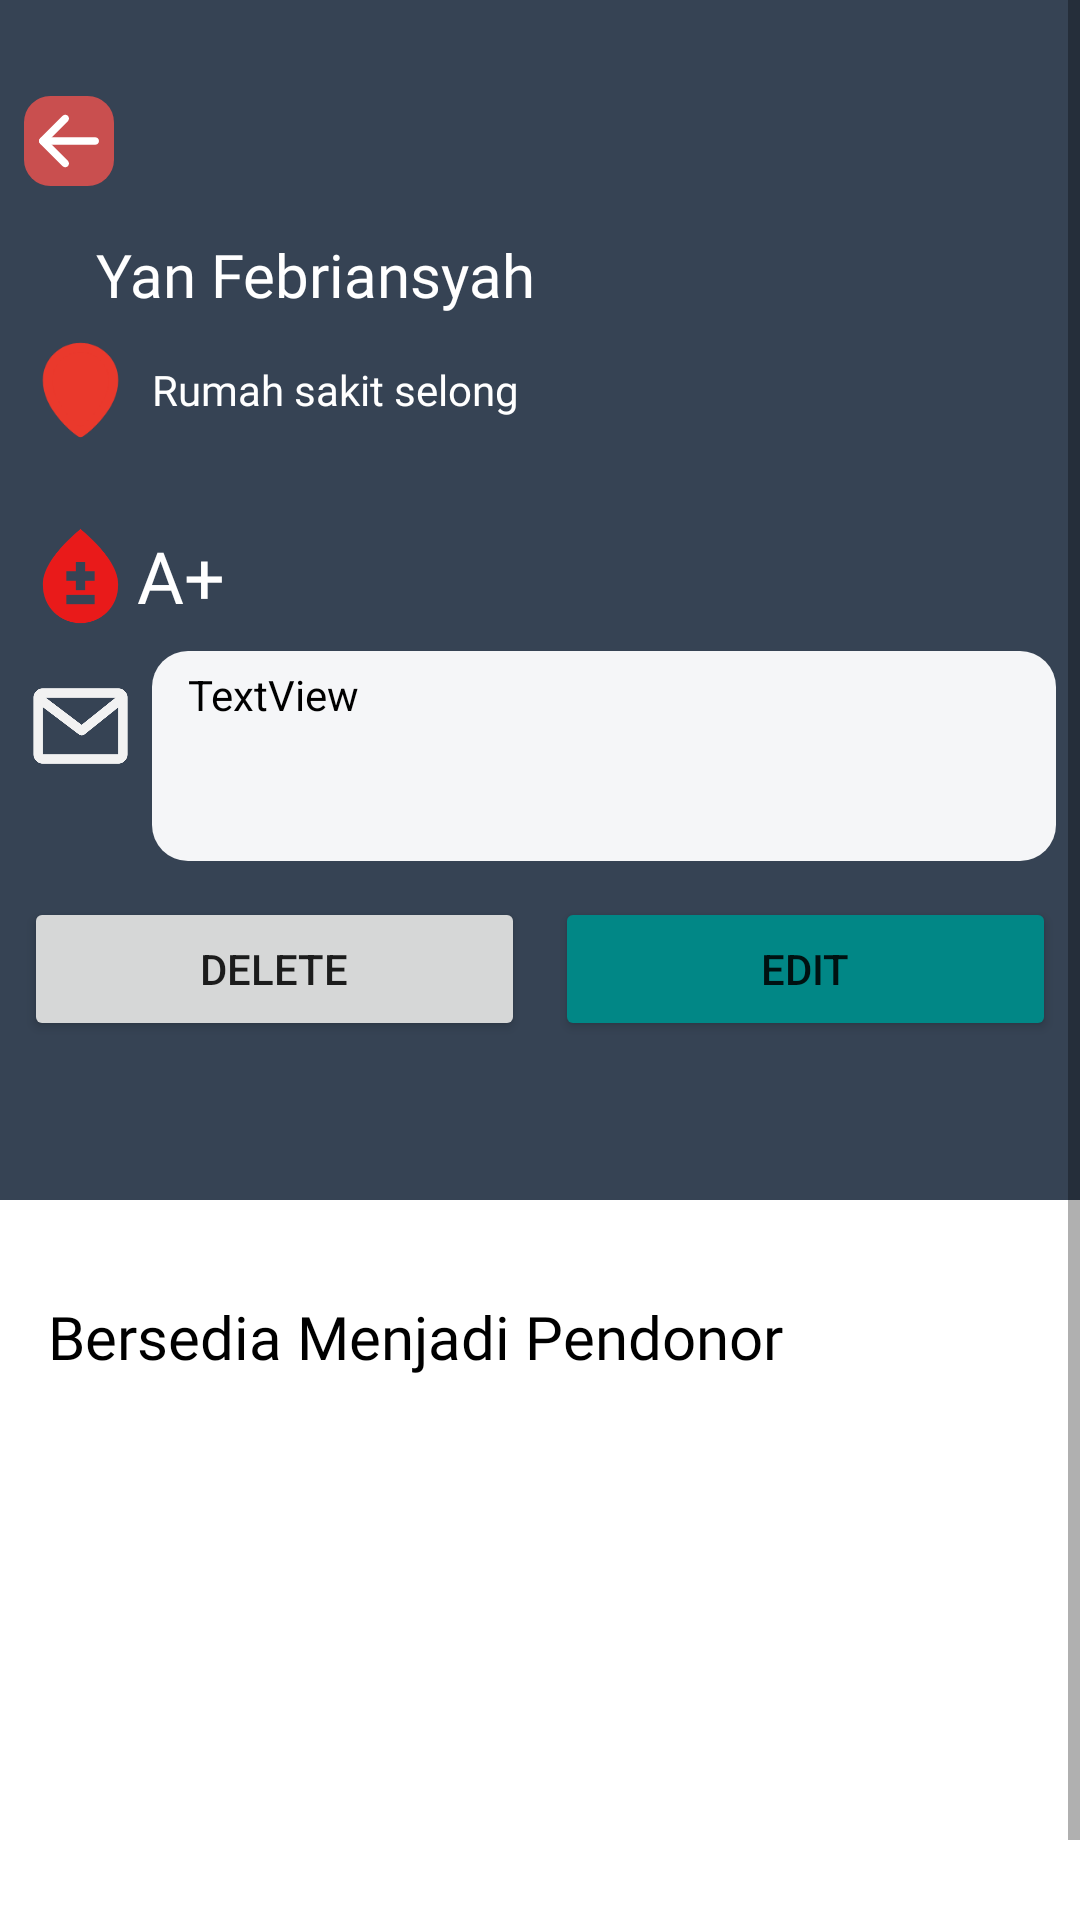

Icons on this 1080*1920 Android screen, each with the point to tap as [x,y]:
bloodtype: [80,576]
mail: [80,726]
map pin: [80,390]
